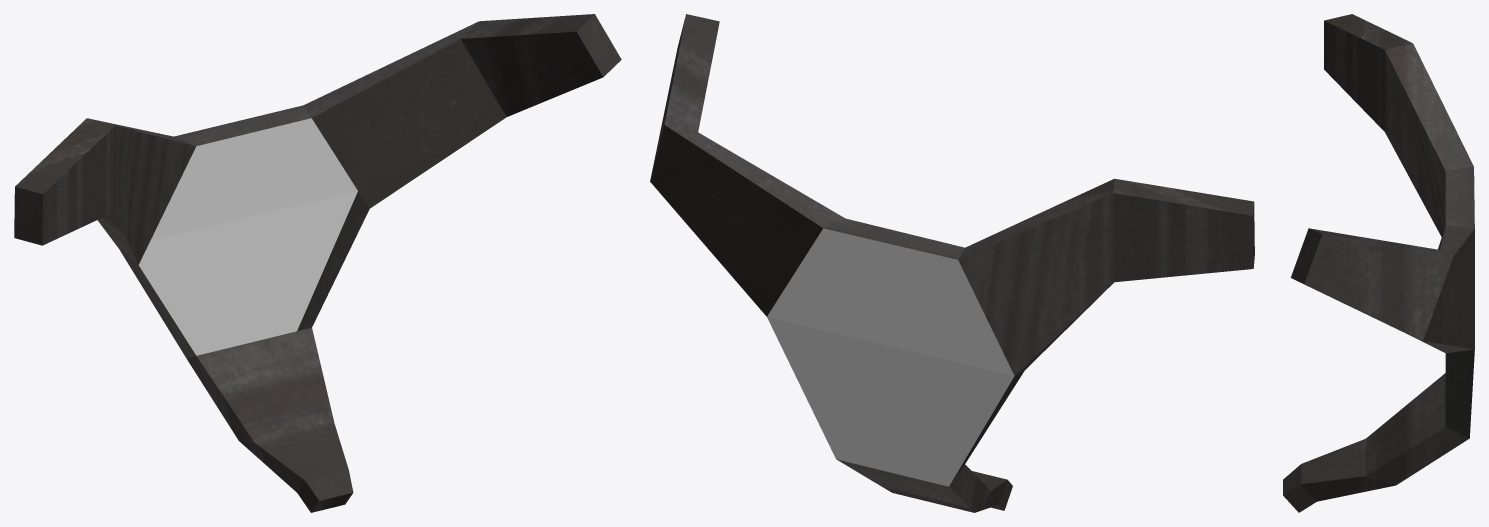
The model's file is EB_LeakingHole.fbx.
3 renders of one model, left to right at view 1: azimuth 30°, elevation 25°; view 2: azimuth 150°, elevation 25°; view 3: azimuth 270°, elevation 25°, orthographic. The views are drawn at different scales.
Parts seen in each view (by area): view 1: LeakyHole; view 2: LeakyHole; view 3: LeakyHole.
Boxes of the visible parts, x1=… form: LeakyHole: x1=14, y1=14, x2=621, y2=512; LeakyHole: x1=650, y1=14, x2=1254, y2=512; LeakyHole: x1=1283, y1=14, x2=1474, y2=512.
Size of the model in its own units: 14.42 by 9.88 by 4.28.
